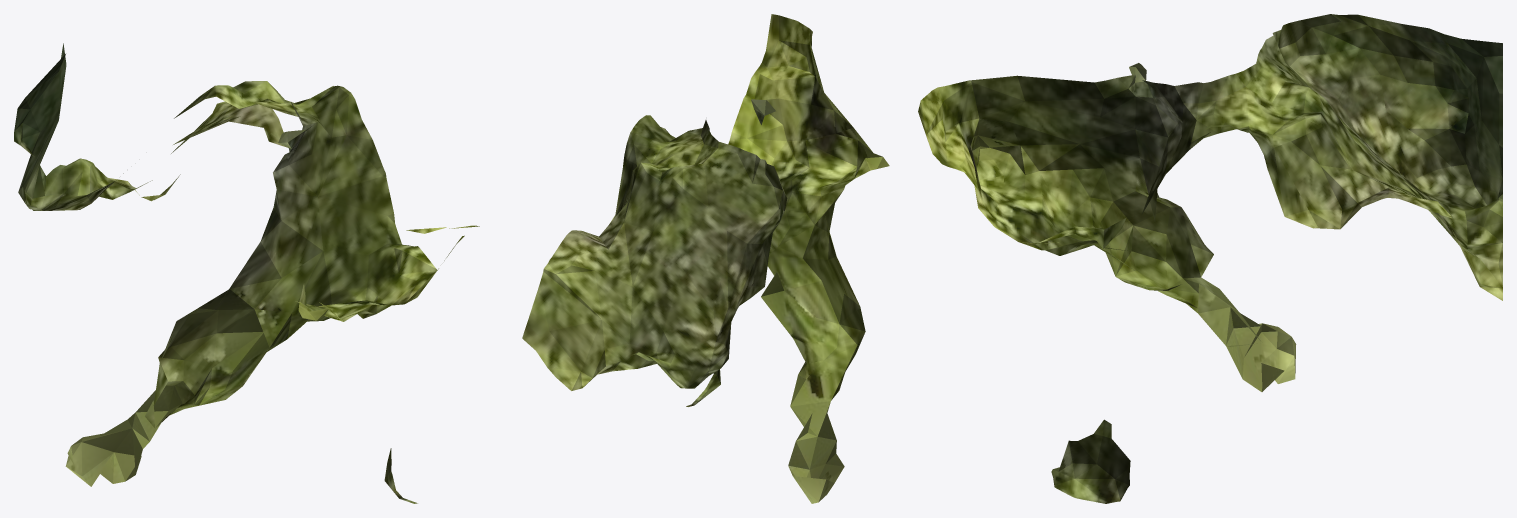
3 views of the same model, side by side, from view 1: azimuth 30°, elevation 25°; view 2: azimuth 150°, elevation 25°; view 3: azimuth 270°, elevation 25° (orthographic). The views are drawn at different scales.
Bounding box in the file's own units: 1.47 × 2.1 × 2.87.
2 materials, 2 textured.
